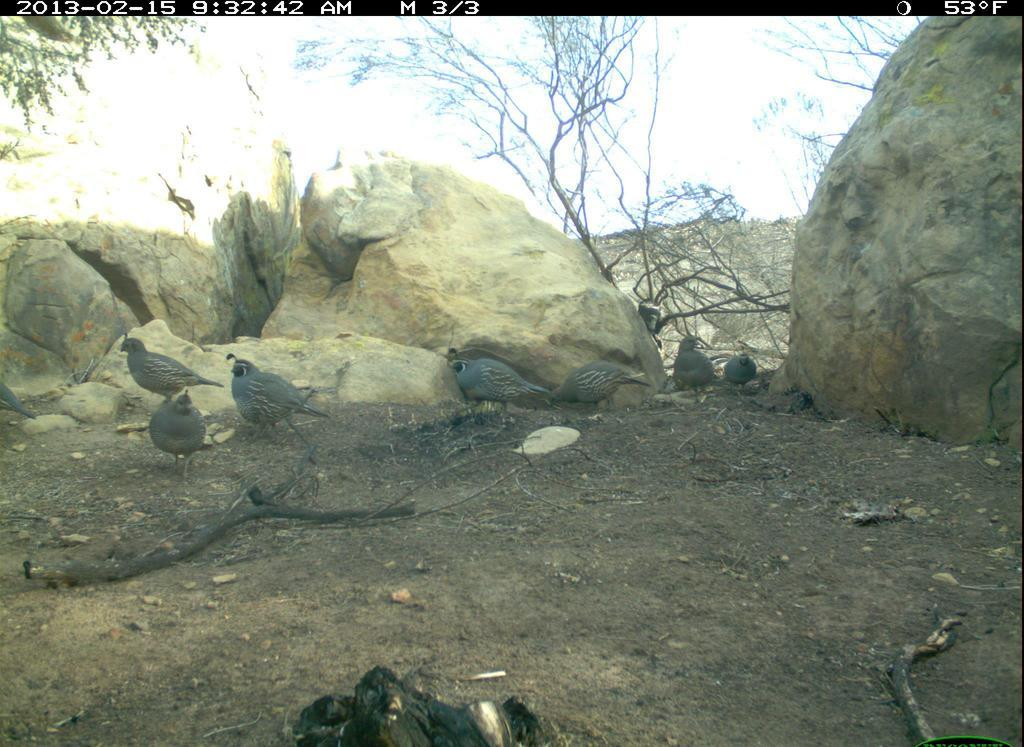bird: (214, 346, 337, 447), (436, 336, 548, 434), (548, 358, 669, 423), (111, 338, 226, 405), (139, 383, 217, 473), (653, 328, 726, 405), (719, 347, 772, 399)
